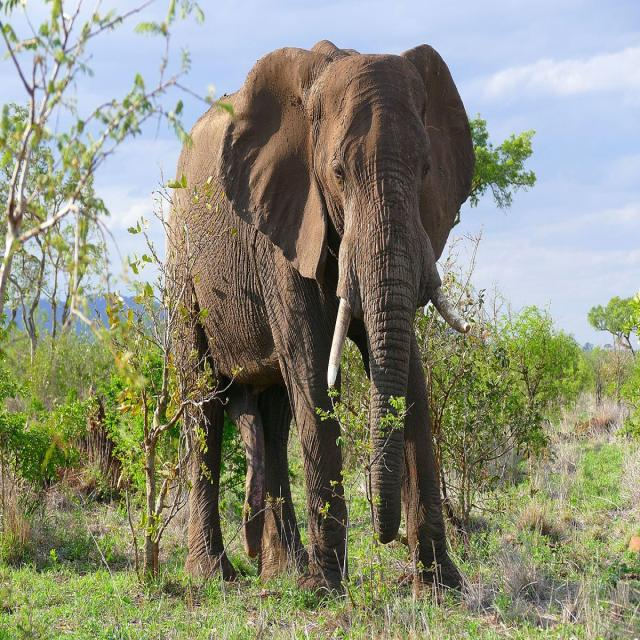Elephant: (162, 38, 476, 602)
